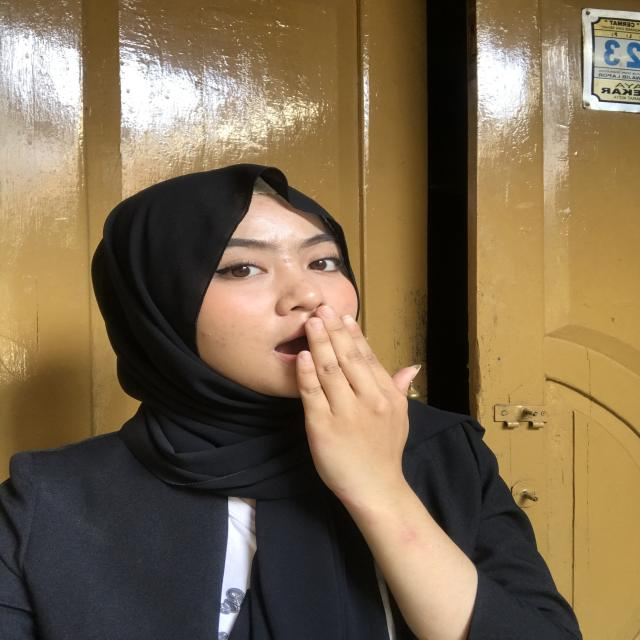ngantuk: (256, 273, 425, 539)
